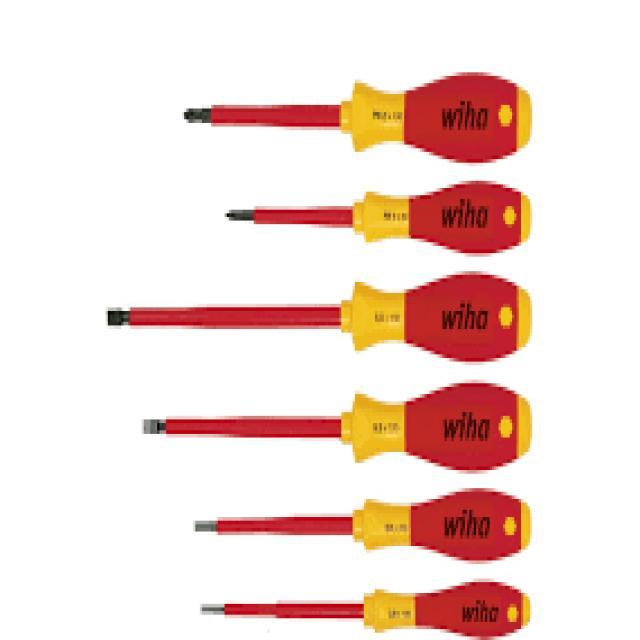screwdriver: (98, 268, 534, 368), (135, 372, 536, 478), (180, 67, 534, 168), (192, 479, 538, 573), (224, 177, 536, 257), (196, 575, 534, 640)
